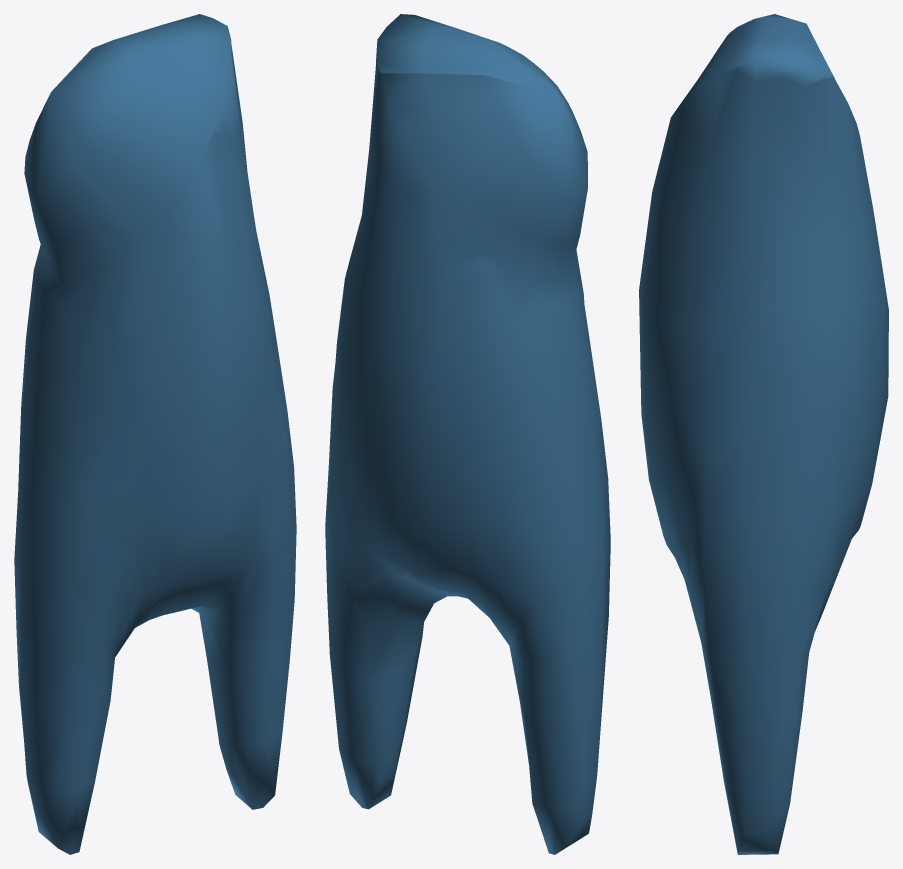
Rendered from Puppe_03_SM.FBX.
The picture shows the model from 3 angles, left to right: view 1: azimuth 30°, elevation 25°; view 2: azimuth 150°, elevation 25°; view 3: azimuth 270°, elevation 25°; orthographic projection.
Parts seen in each view (by area): view 1: Voodoo 03; view 2: Voodoo 03; view 3: Voodoo 03.
Part boxes in pixels (left/top/right/bottom): Voodoo 03: left=14, top=14, right=296, bottom=854; Voodoo 03: left=325, top=14, right=610, bottom=854; Voodoo 03: left=639, top=14, right=888, bottom=854.
Bounding box in the file's own units: 6.23 × 18.41 × 5.35.
